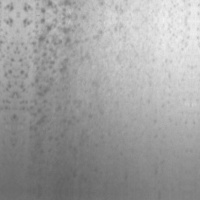pitted_surface: (14, 15, 109, 137), (119, 19, 190, 68)
